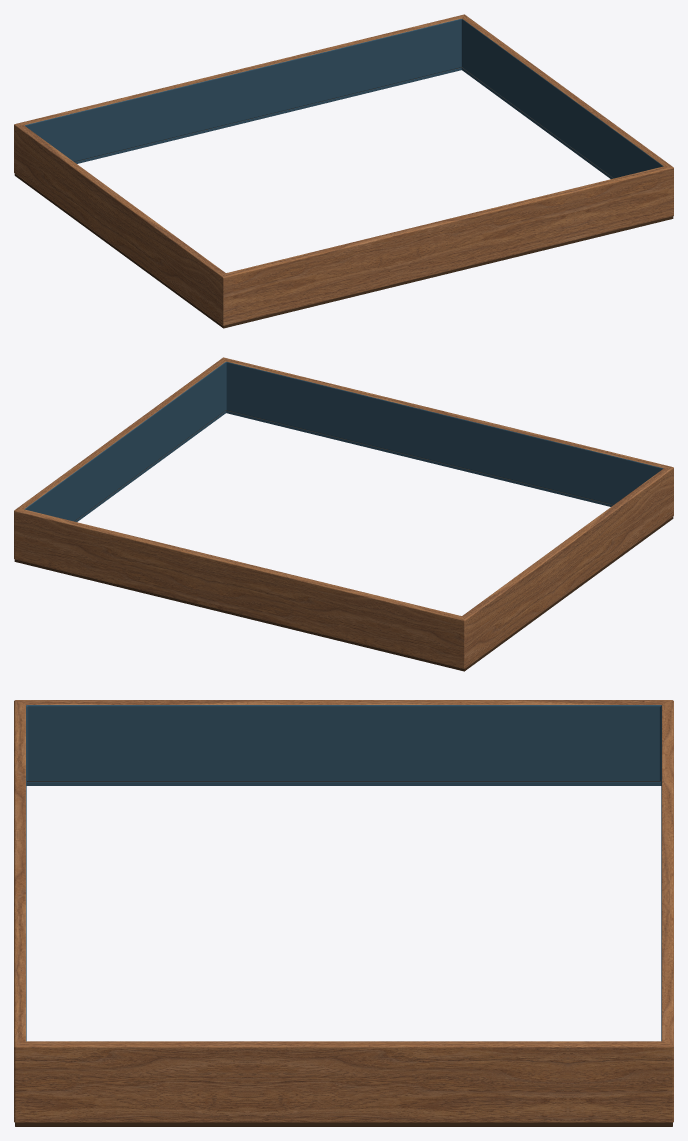
File: tray-frame.glb
The picture shows the model from 3 angles, top to bottom: view 1: azimuth 30°, elevation 25°; view 2: azimuth 150°, elevation 25°; view 3: azimuth 270°, elevation 25°; orthographic projection. The views are drawn at different scales.
Parts seen in each view (by area): view 1: Detailed_solid_wood_frame__744x594_opening; view 2: Detailed_solid_wood_frame__744x594_opening; view 3: Detailed_solid_wood_frame__744x594_opening.
Part boxes in pixels (left/top/right/bottom): Detailed_solid_wood_frame__744x594_opening: left=14, top=14, right=673, bottom=328; Detailed_solid_wood_frame__744x594_opening: left=14, top=357, right=673, bottom=671; Detailed_solid_wood_frame__744x594_opening: left=14, top=700, right=673, bottom=1126.
Bounding box in the file's own units: 0.768 × 0.084 × 0.618.
3 materials, 1 textured.
